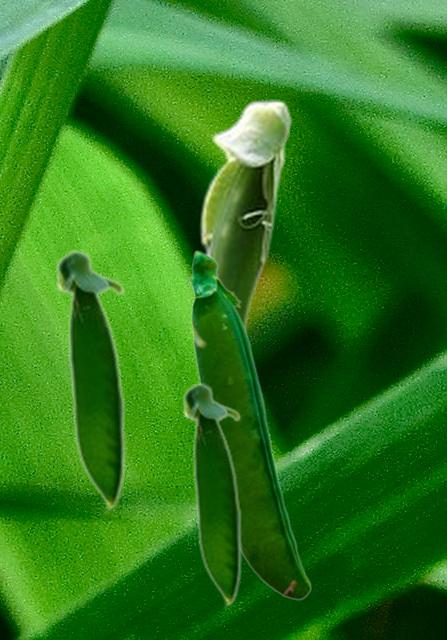pea: (188, 249, 310, 599), (197, 99, 292, 381), (54, 248, 125, 514), (181, 381, 241, 609)
